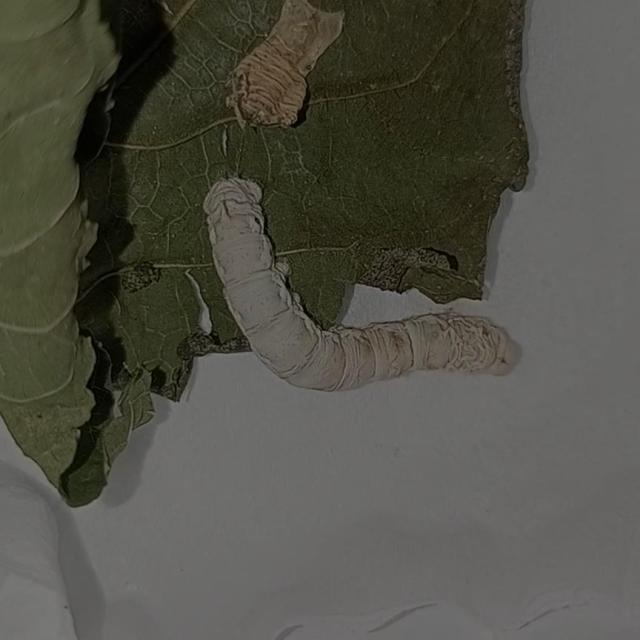Healthy: (199, 164, 528, 398)
